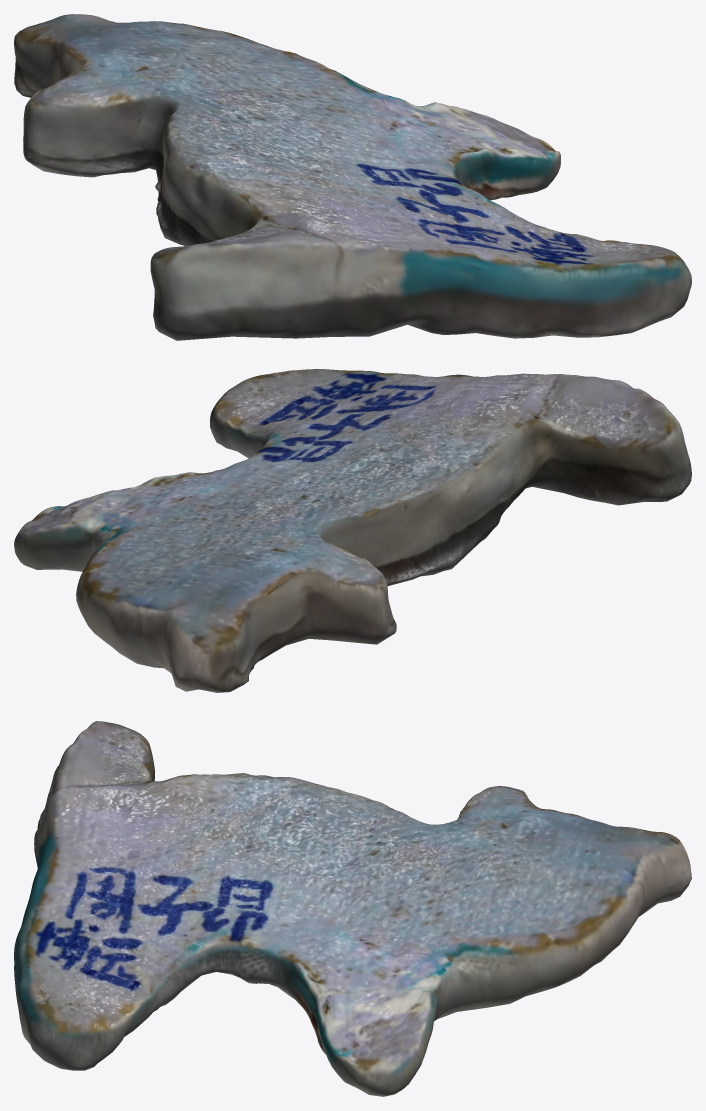
The picture shows the model from 3 angles, top to bottom: view 1: azimuth 30°, elevation 25°; view 2: azimuth 150°, elevation 25°; view 3: azimuth 270°, elevation 25°; orthographic projection. The views are drawn at different scales.
Bounding box in the file's own units: 0.5455 × 0.1629 × 0.6492.
Materials: 1 (1 with a texture image).
